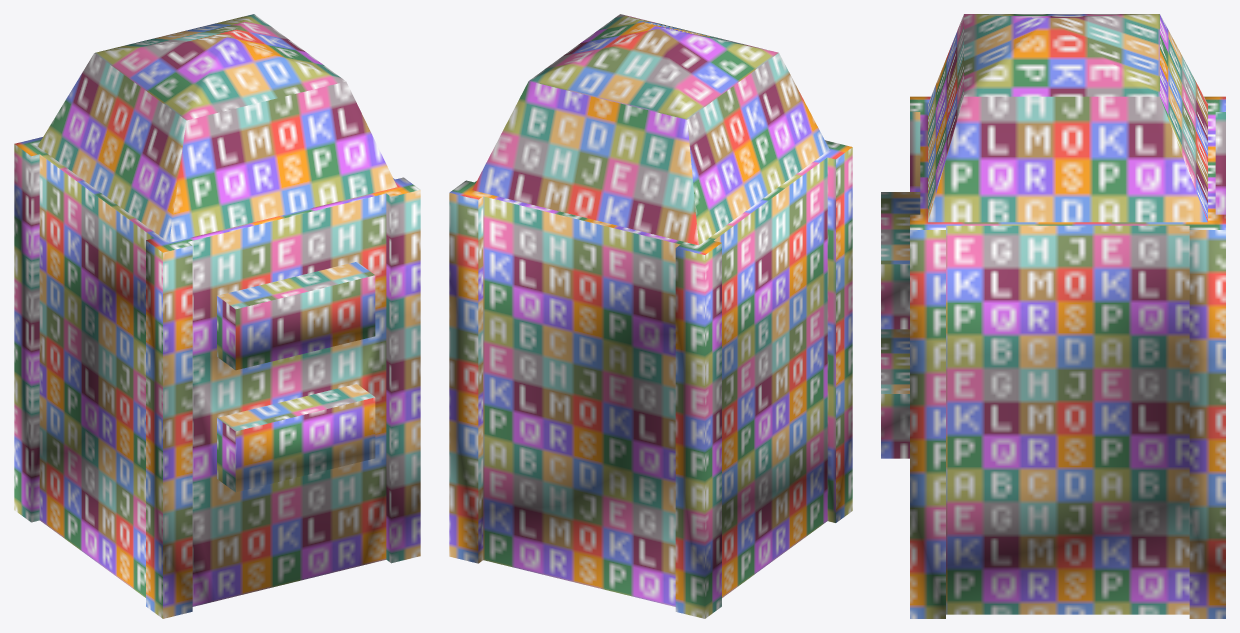
The model's file is building_02.obj.
3 views of the same model, side by side, from view 1: azimuth 30°, elevation 25°; view 2: azimuth 150°, elevation 25°; view 3: azimuth 270°, elevation 25° (orthographic). The views are drawn at different scales.
Visible parts, largest first — view 1: Cube1; view 2: Cube1; view 3: Cube1.
Boxes of the visible parts, bbox=[...] form: Cube1: bbox=[14, 14, 420, 618]; Cube1: bbox=[449, 14, 852, 618]; Cube1: bbox=[881, 14, 1225, 618].
Bounding box in the file's own units: 4.03 × 7.51 × 4.4.
1 material, 1 textured.
